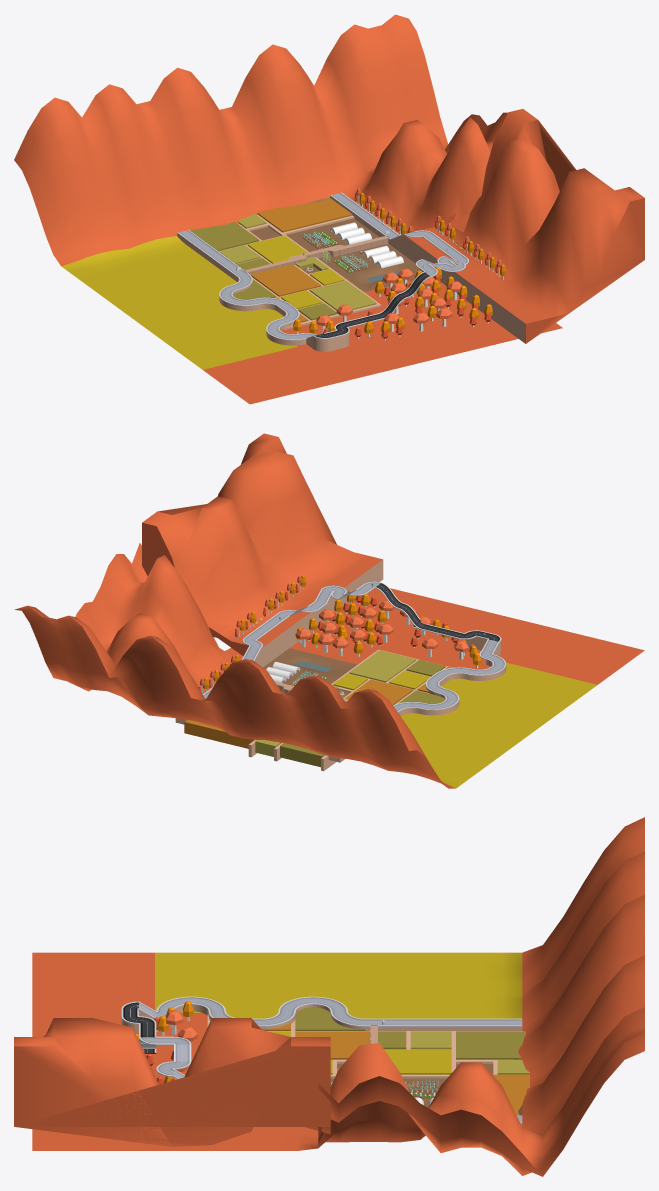
Rendered from Map_Fall(ch).fbx.
3 renders of one model, top to bottom at view 1: azimuth 30°, elevation 25°; view 2: azimuth 150°, elevation 25°; view 3: azimuth 270°, elevation 25°, orthographic. The views are drawn at different scales.
Parts seen in each view (by area): view 1: BackGround, BackGround2, farm, tree1, Road1, Road3, tree, Road4, Road2, BackGround3, Road1_under; view 2: BackGround, BackGround2, farm, tree1, Road1, Road3, Road4, tree, Road1_under; view 3: BackGround, BackGround2, farm, Road1, Road3, tree1, Road4, Road1_under.
Part boxes in pixels (bbox=[...]): BackGround: bbox=[14, 14, 562, 404]; BackGround2: bbox=[404, 109, 644, 343]; farm: bbox=[190, 198, 381, 330]; tree1: bbox=[293, 265, 492, 340]; Road1: bbox=[177, 229, 323, 348]; Road3: bbox=[330, 192, 468, 276]; tree: bbox=[354, 188, 505, 279]; Road4: bbox=[313, 271, 430, 351]; Road2: bbox=[245, 236, 388, 274]; BackGround3: bbox=[330, 222, 403, 268]; Road1_under: bbox=[219, 278, 306, 345]; BackGround: bbox=[14, 543, 644, 788]; BackGround2: bbox=[142, 433, 383, 667]; farm: bbox=[184, 649, 452, 771]; tree1: bbox=[295, 590, 481, 668]; Road1: bbox=[328, 639, 506, 762]; Road3: bbox=[175, 581, 380, 724]; Road4: bbox=[374, 582, 501, 654]; tree: bbox=[198, 575, 306, 694]; Road1_under: bbox=[400, 660, 506, 715]; BackGround: bbox=[32, 817, 644, 1176]; BackGround2: bbox=[14, 1018, 330, 1146]; farm: bbox=[207, 1007, 530, 1115]; Road1: bbox=[139, 996, 522, 1030]; Road3: bbox=[139, 1036, 522, 1126]; tree1: bbox=[136, 1001, 197, 1084]; Road4: bbox=[121, 1001, 156, 1053]; Road1_under: bbox=[175, 1004, 365, 1030].
Size of the model in its own units: 1359 by 482 by 1449.
